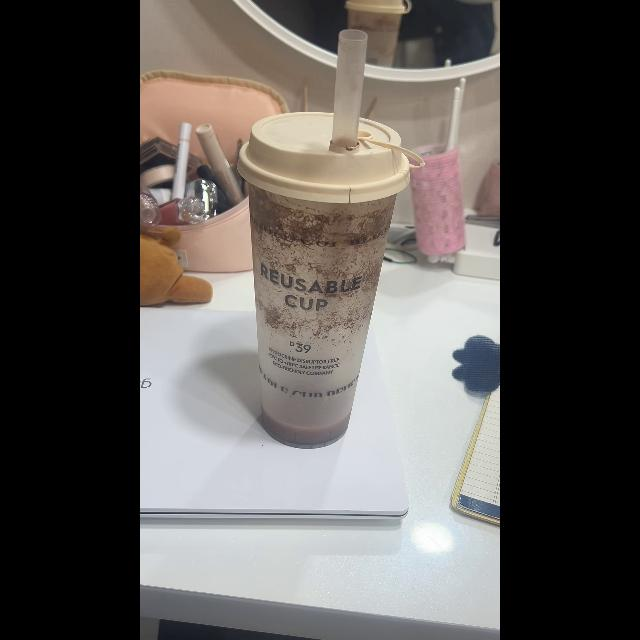dirty: (248, 113, 398, 447)
